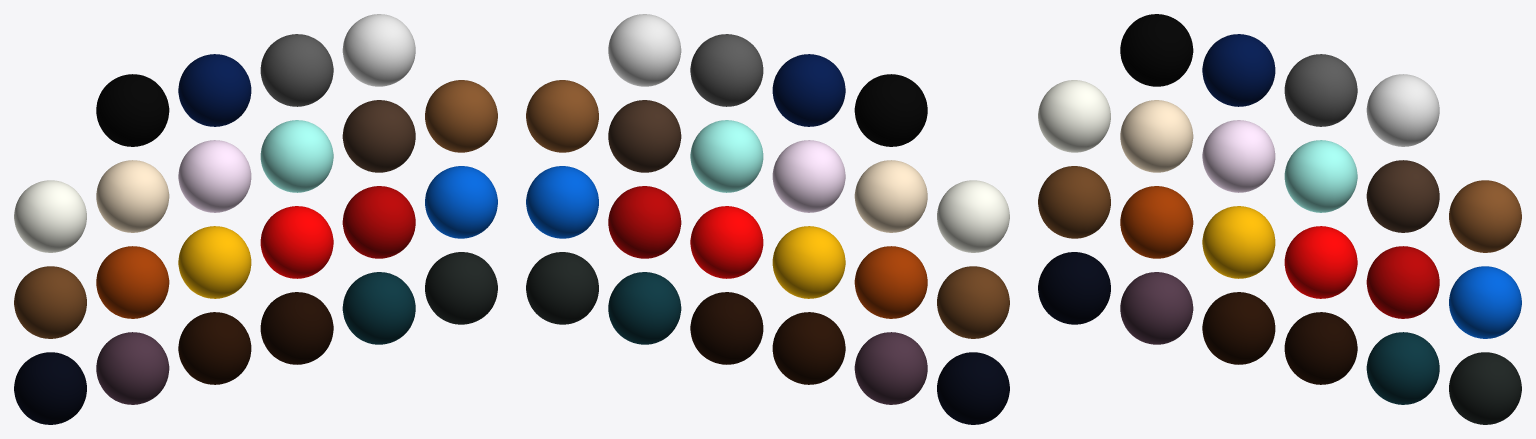
Rendered from personaFinishSpheres.glb.
The picture shows the model from 3 angles, left to right: view 1: azimuth 30°, elevation 25°; view 2: azimuth 150°, elevation 25°; view 3: azimuth 330°, elevation 25°; orthographic projection.
Parts seen in each view (by area): view 1: Cube.002, Cube.007, Cube.001, Cube.012, Cube.006, Cube.008, Cube.011, Cube.013, Cube.019, Cube.003, Cube.017, Cube.018 (+10 smaller); view 2: Cube.002, Cube.007, Cube.001, Cube.012, Cube.006, Cube.008, Cube.011, Cube.013, Cube.019, Cube.003, Cube.017, Cube.018 (+10 smaller); view 3: Cube.001, Cube.006, Cube.002, Cube.011, Cube.005, Cube.007, Cube.004, Cube.012, Cube.016, Cube, Cube.017, Cube.018 (+10 smaller).
Part boxes in pixels (x1=…): Cube.002: x1=260, y1=34, x2=333, y2=106; Cube.007: x1=260, y1=120, x2=333, y2=192; Cube.001: x1=178, y1=54, x2=251, y2=126; Cube.012: x1=260, y1=206, x2=333, y2=278; Cube.006: x1=178, y1=140, x2=251, y2=212; Cube.008: x1=342, y1=100, x2=415, y2=172; Cube.011: x1=178, y1=226, x2=251, y2=298; Cube.013: x1=342, y1=186, x2=415, y2=258; Cube.019: x1=342, y1=272, x2=415, y2=344; Cube.003: x1=342, y1=14, x2=415, y2=86; Cube.017: x1=178, y1=312, x2=251, y2=384; Cube.018: x1=260, y1=292, x2=333, y2=364; Cube.002: x1=690, y1=34, x2=763, y2=106; Cube.007: x1=690, y1=120, x2=763, y2=192; Cube.001: x1=772, y1=54, x2=845, y2=126; Cube.012: x1=690, y1=206, x2=763, y2=278; Cube.006: x1=772, y1=140, x2=845, y2=212; Cube.008: x1=608, y1=100, x2=681, y2=172; Cube.011: x1=772, y1=226, x2=845, y2=298; Cube.013: x1=608, y1=186, x2=681, y2=258; Cube.019: x1=608, y1=272, x2=681, y2=344; Cube.003: x1=608, y1=14, x2=681, y2=86; Cube.017: x1=772, y1=312, x2=845, y2=384; Cube.018: x1=690, y1=292, x2=763, y2=364; Cube.001: x1=1202, y1=34, x2=1275, y2=106; Cube.006: x1=1202, y1=120, x2=1275, y2=192; Cube.002: x1=1284, y1=54, x2=1357, y2=126; Cube.011: x1=1202, y1=206, x2=1275, y2=278; Cube.005: x1=1120, y1=100, x2=1193, y2=172; Cube.007: x1=1284, y1=140, x2=1357, y2=212; Cube.004: x1=1120, y1=186, x2=1193, y2=258; Cube.012: x1=1284, y1=226, x2=1357, y2=298; Cube.016: x1=1120, y1=272, x2=1193, y2=344; Cube: x1=1120, y1=14, x2=1193, y2=86; Cube.017: x1=1202, y1=292, x2=1275, y2=364; Cube.018: x1=1284, y1=312, x2=1357, y2=384.
Bounding box in the file's own units: 2.88 × 1.88 × 0.3827.
